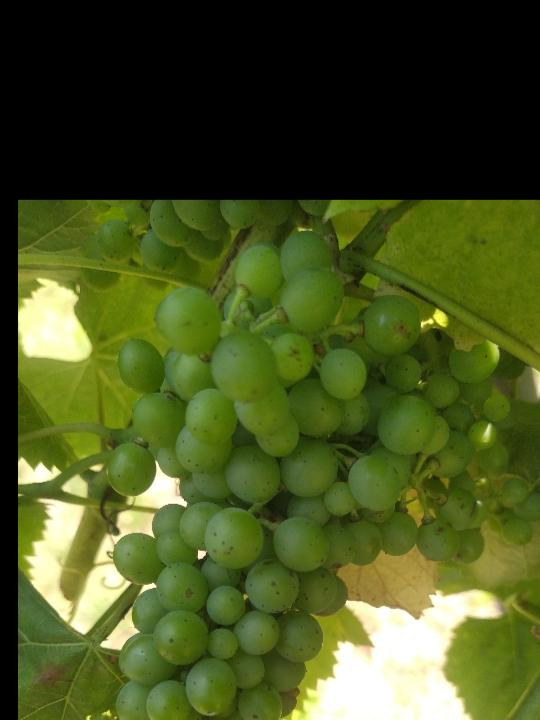grape: (100, 228, 540, 720)
